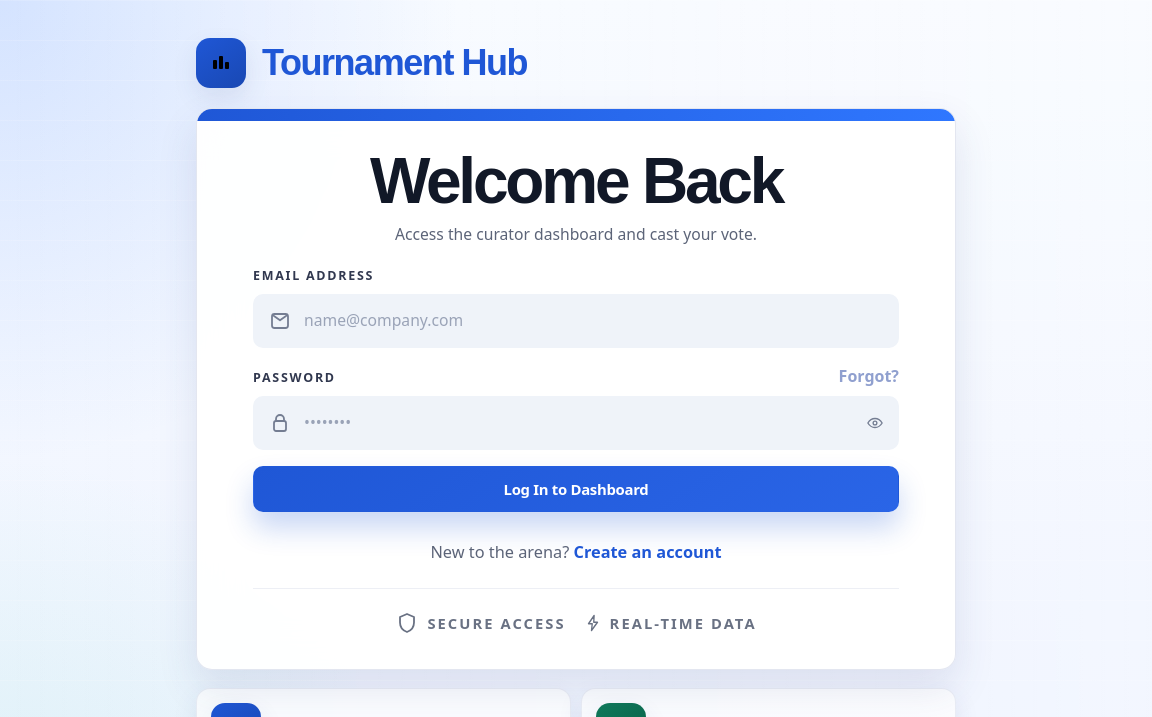
Test: LoginPage › submits login, stores auth, and redirects after success
Expected: the heading "Welcome Back" is shown, [370, 145, 782, 217]
Type "curator@tournamenthub.test" into the field labelled "Email Address" at (588, 321), box [304, 309, 872, 333]
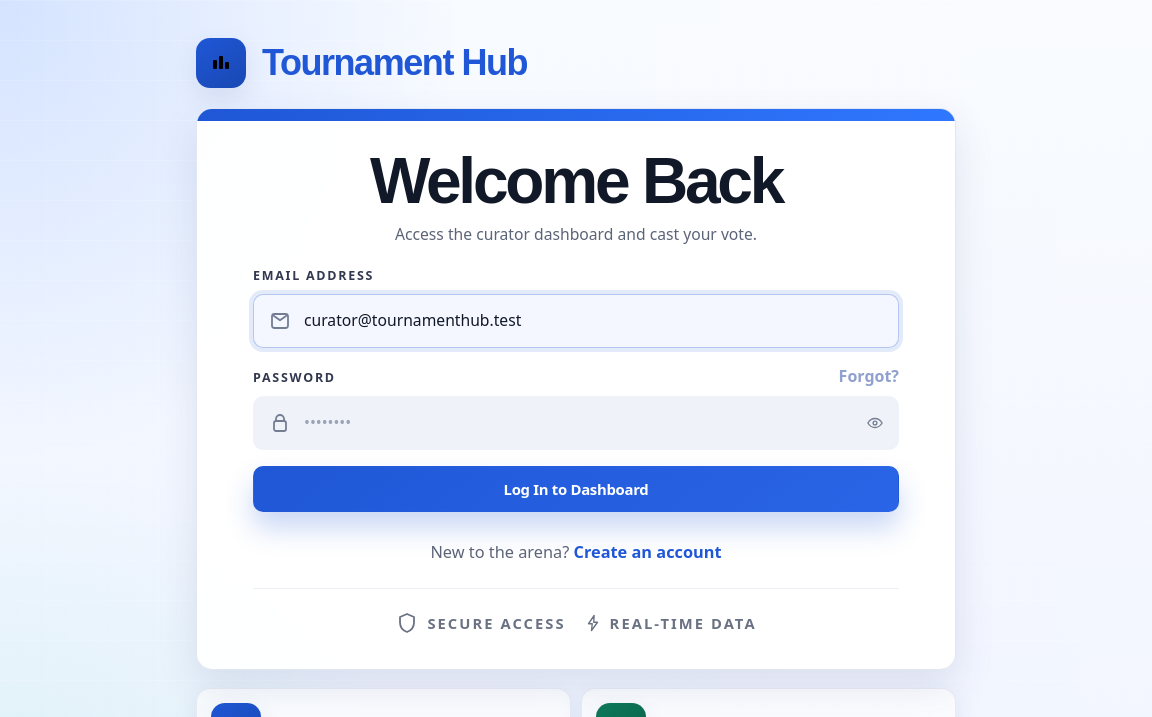
Type "password123" into the password field labelled "Password" at (579, 423), box [304, 411, 854, 435]
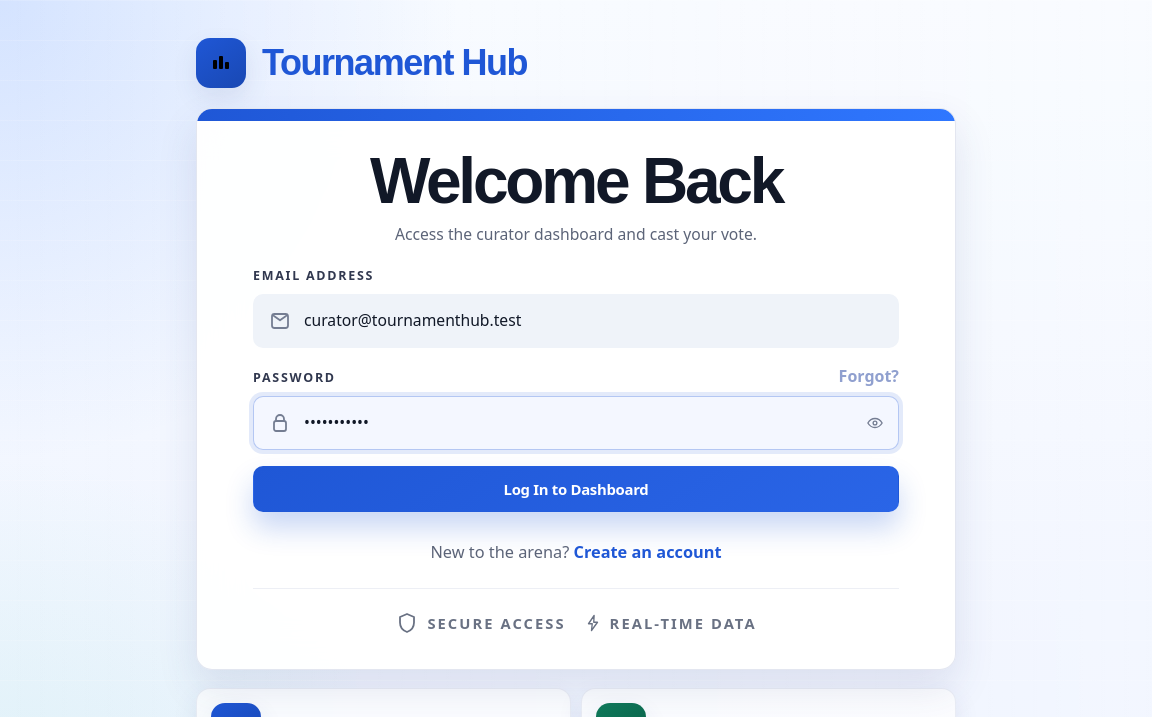
Click the button "Log In to Dashboard" at (576, 489), box [253, 466, 899, 512]
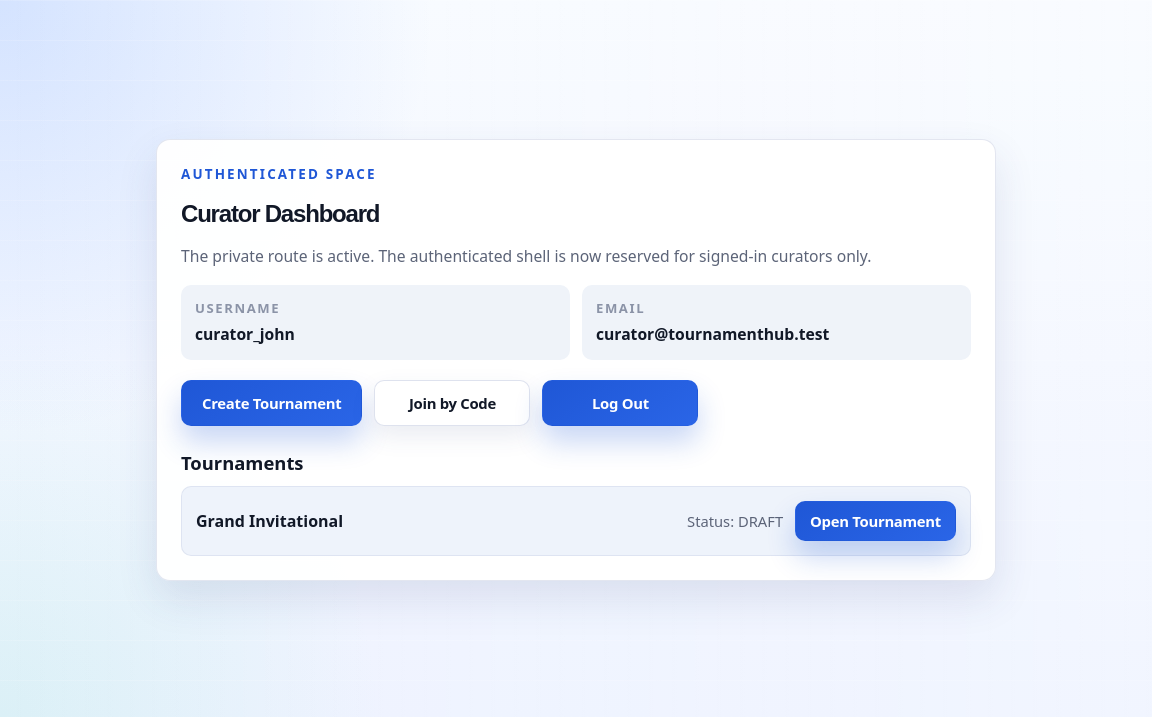
Now the heading "Curator Dashboard" is shown, box [181, 200, 379, 227]
